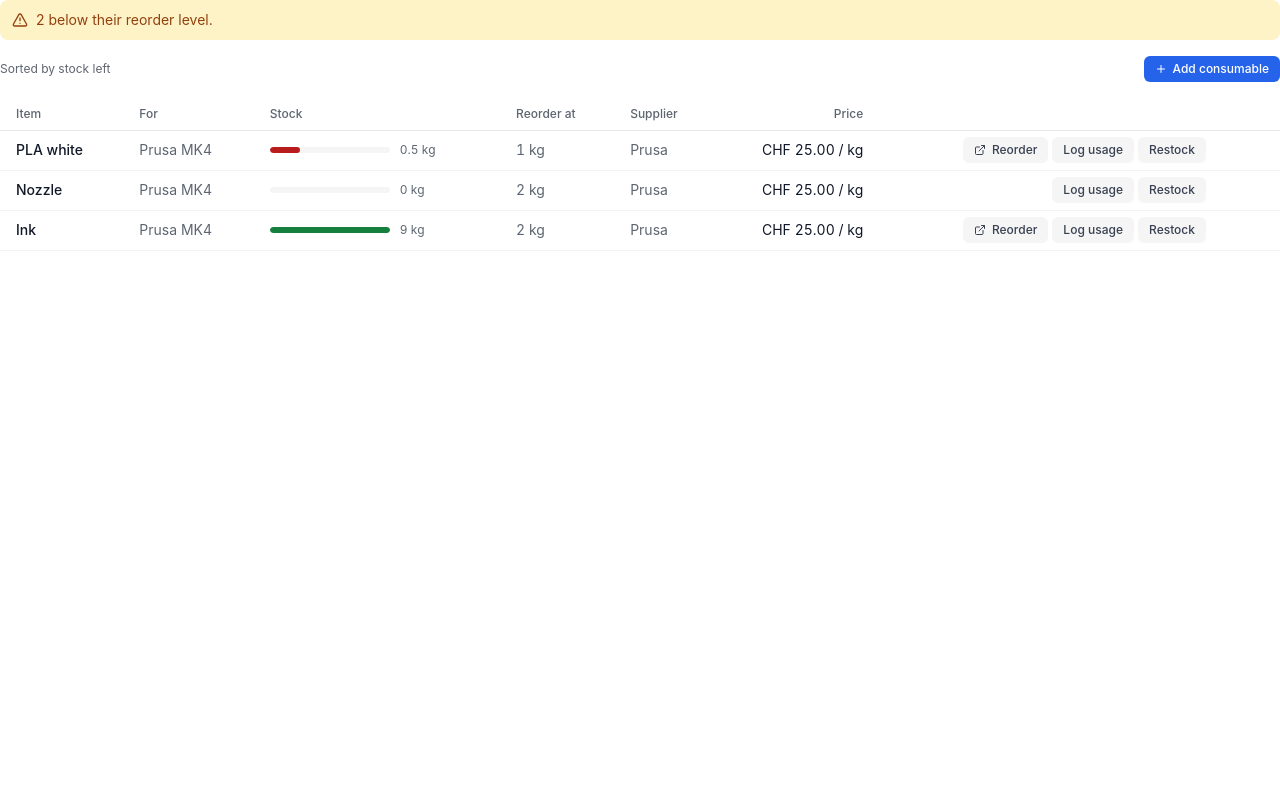
ConsumablesTab › restock adds stock then offers the prefilled expense
Click the button "Restock" in the row of "PLA white". click: x=1172, y=150
box: [1138,137,1206,163]
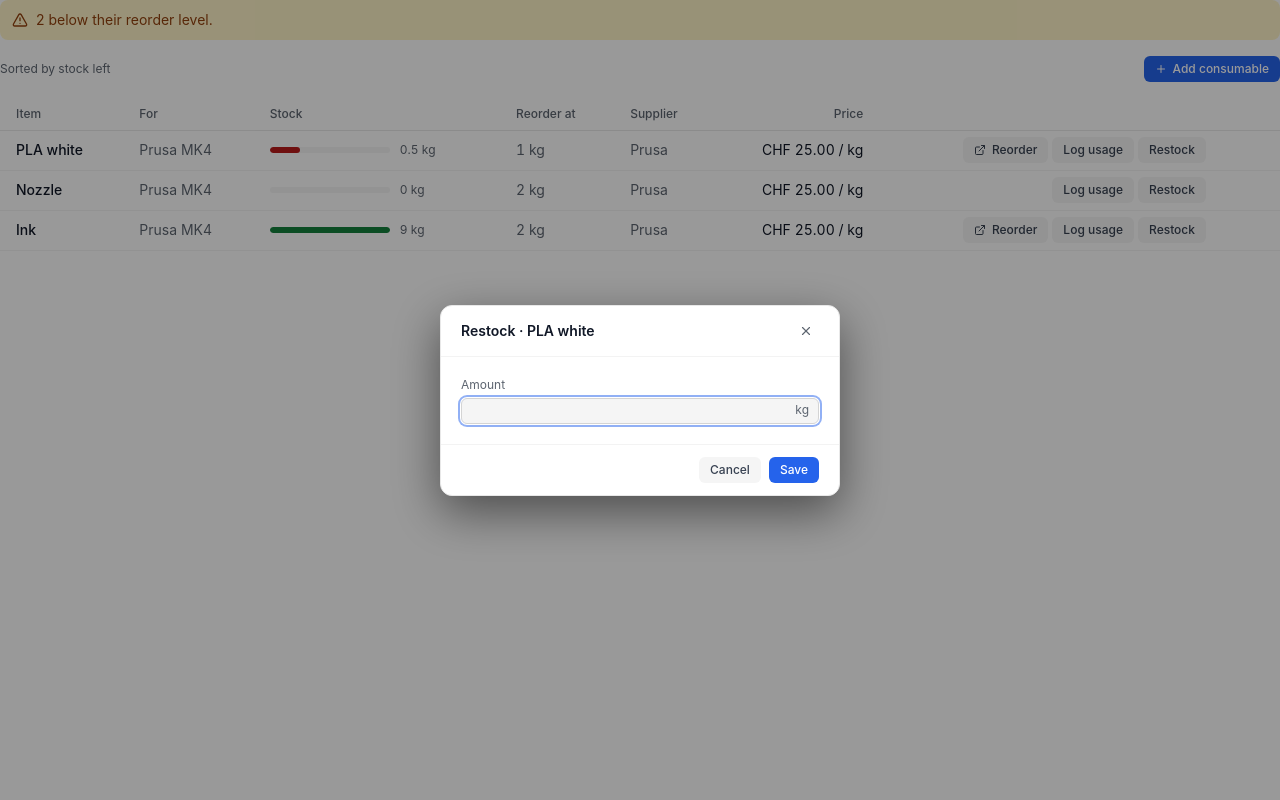
Type "2" into the number field labelled "Amount". click: x=640, y=410
box: [461,398,819,424]
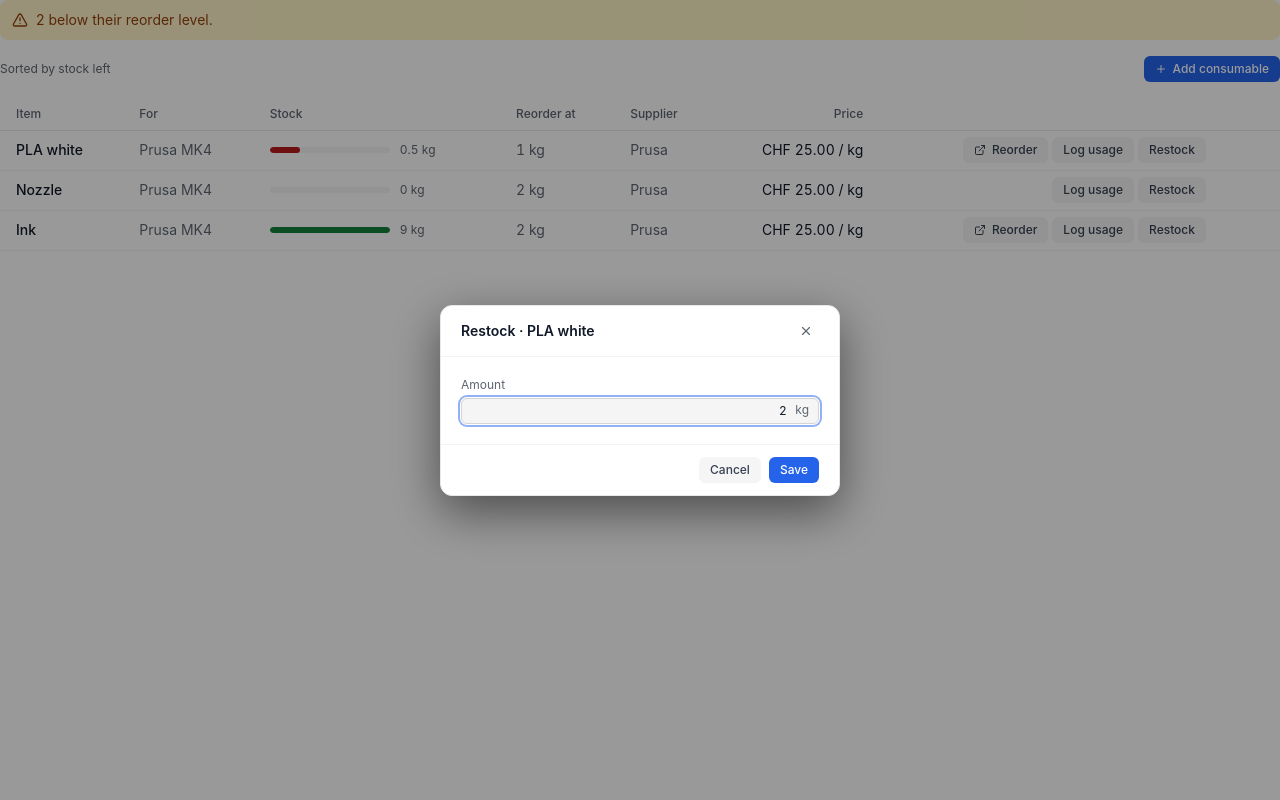
Click the button "Save". click: x=794, y=470
box: [769,456,819,482]
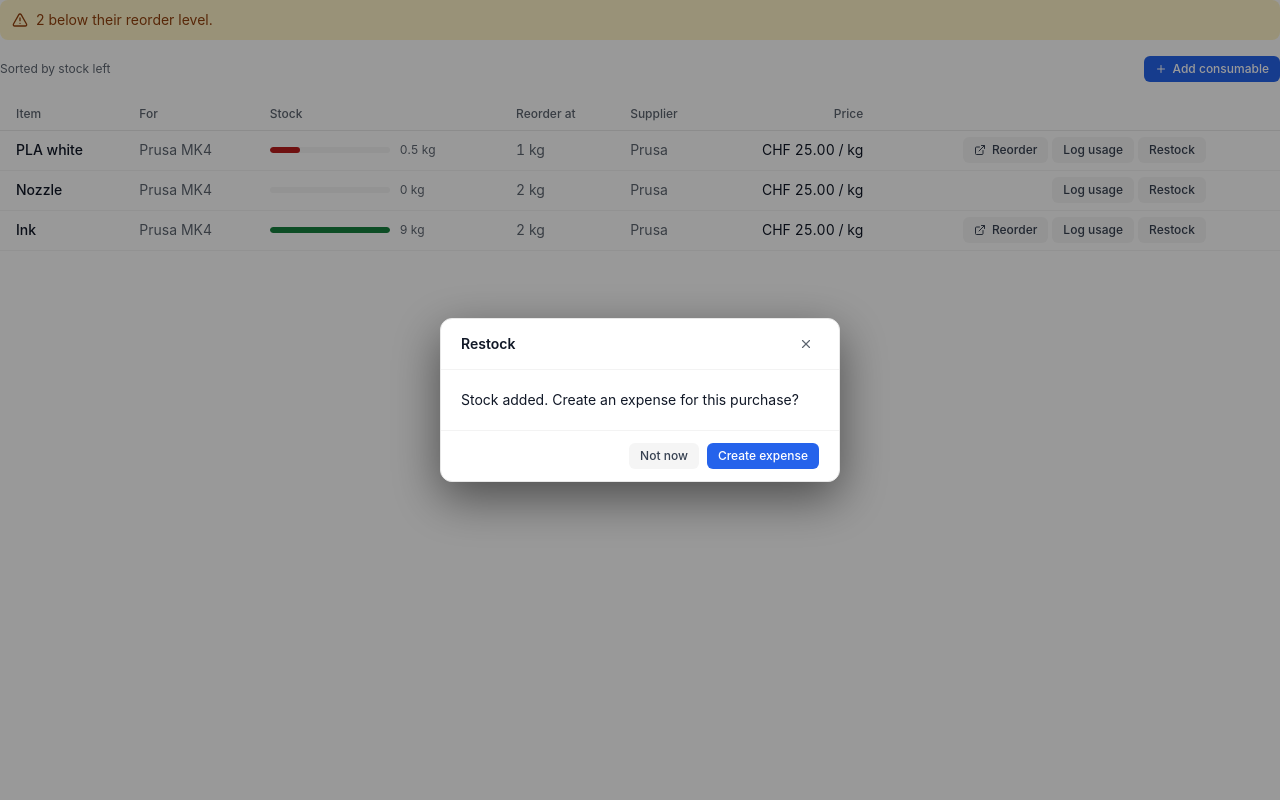
Click the button "Create expense". click: x=763, y=456
box: [707,443,819,469]
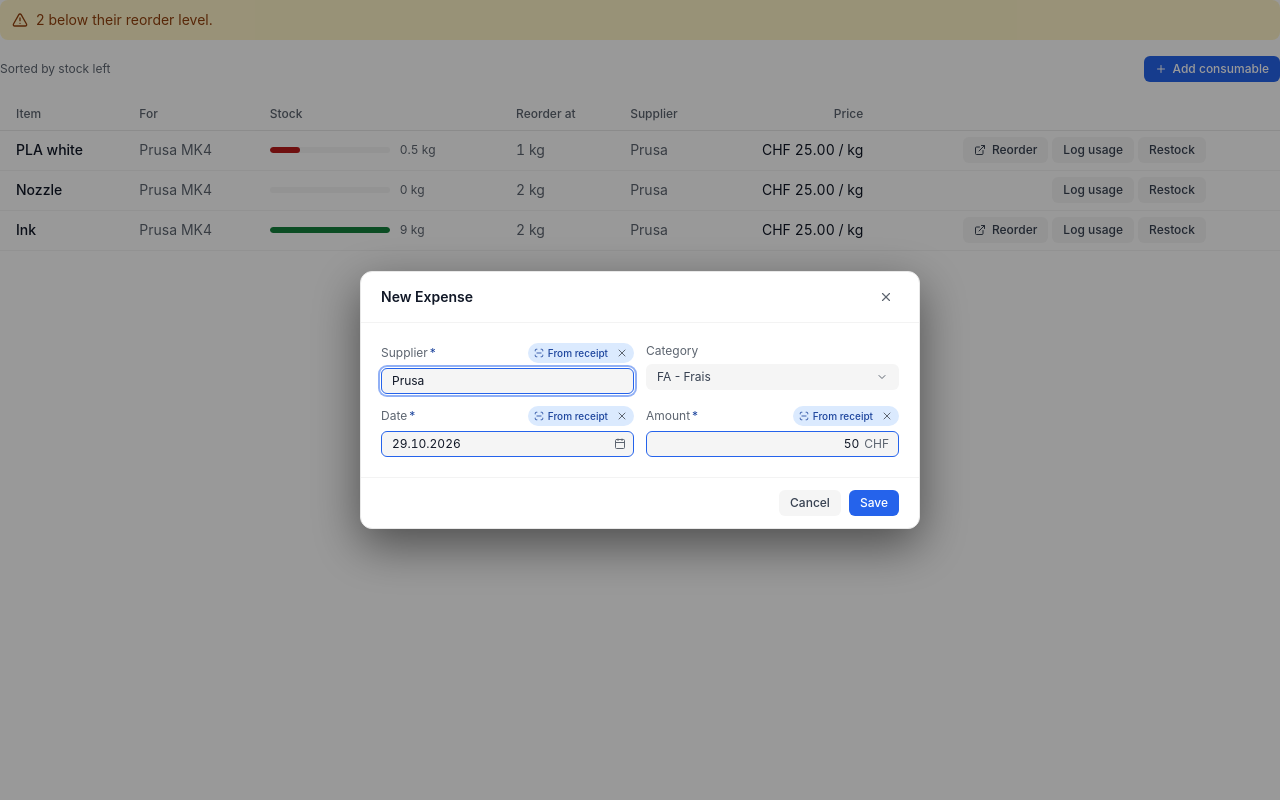
Result: the field showing "Prusa" is shown at [381,368,634,394]
Result: the number field showing "50" is shown at [646,431,899,457]
